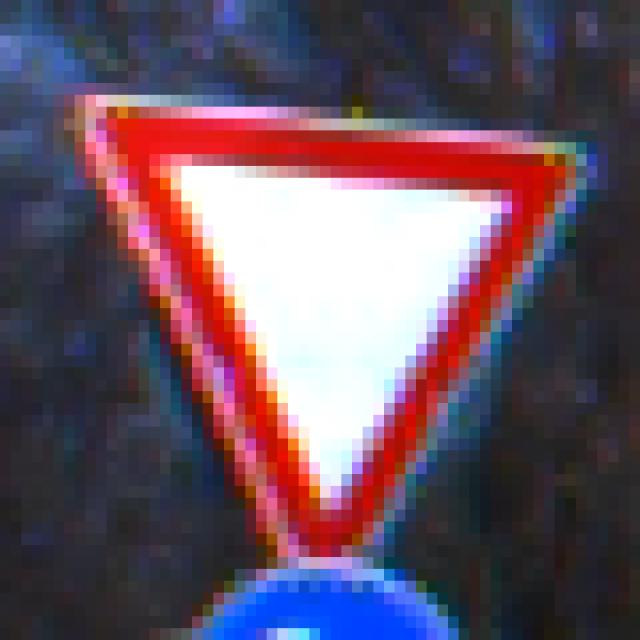Give Way: (65, 60, 588, 582)
